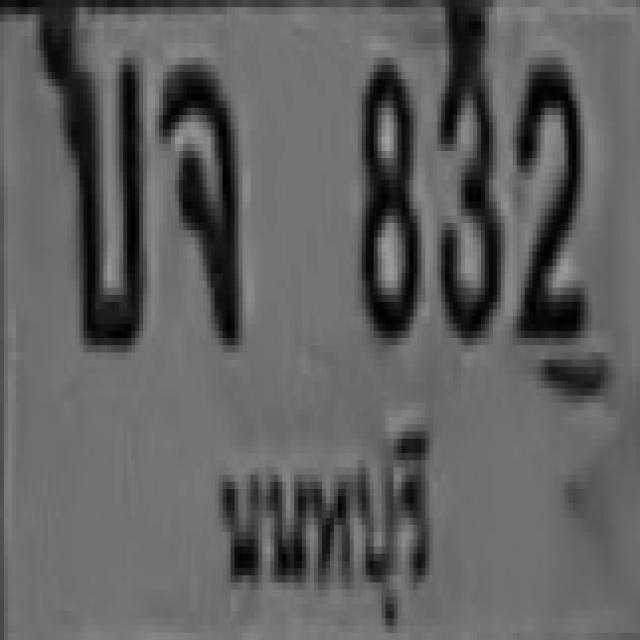17ChorChan: (157, 58, 237, 338)
2: (513, 50, 584, 338)
3: (433, 43, 497, 331)
35BorBaiMai: (44, 36, 143, 345)
8: (358, 54, 417, 334)
Nonthaburi: (201, 415, 429, 619)
